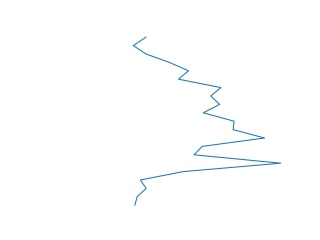floodSwamp: (130, 35, 283, 208)
